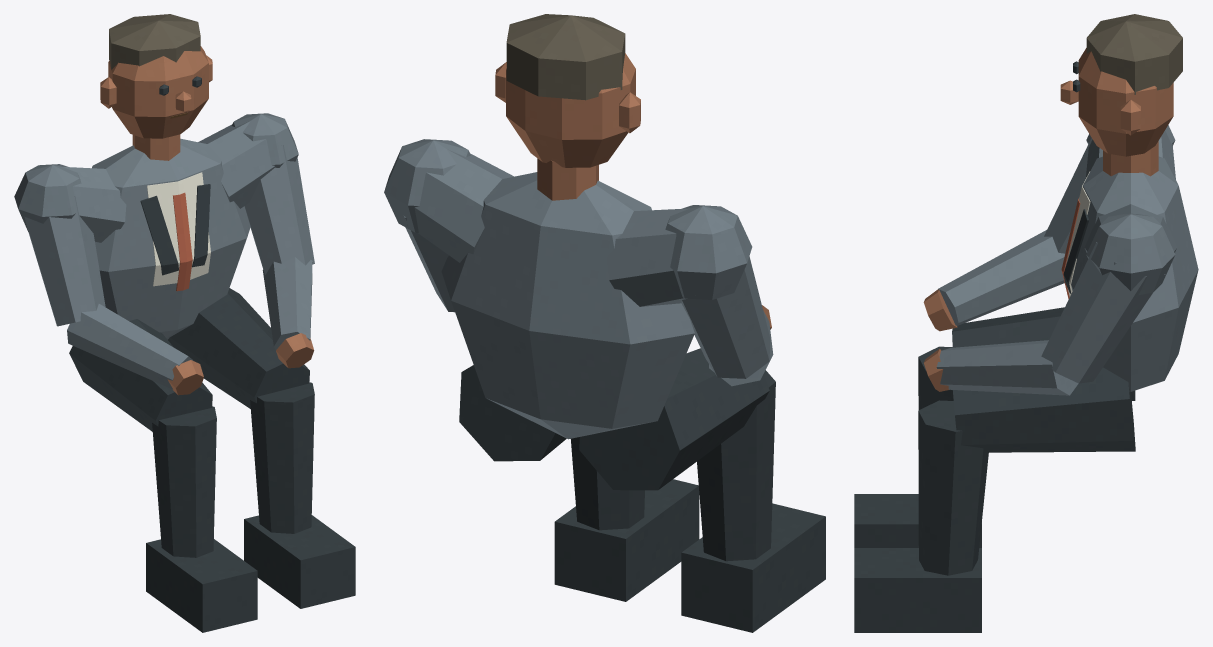
File: character.glb
3 renders of one model, left to right at view 1: azimuth 30°, elevation 25°; view 2: azimuth 150°, elevation 25°; view 3: azimuth 270°, elevation 25°, orthographic. The views are drawn at different scales.
Visible parts, largest first — view 1: Clothed torso 001, Trouser lower leg 013, Trouser lower leg 021, Trouser upper leg 020, Original flat sole shoe 014, Original flat sole shoe 022, Neutral face 004, Clothed upper sleeve 017, Clothed upper sleeve 025, Trouser upper leg 012, Forearm 018, Short faceted hair 005 (+12 smaller); view 2: Clothed torso 001, Trouser upper leg 012, Original flat sole shoe 014, Original flat sole shoe 022, Trouser lower leg 013, Short faceted hair 005, Neutral face 004, Clothed shoulder cap 016, Clothed upper sleeve 017, Clothed shoulder bridge 023, Clothed shoulder bridge 015, Trouser upper leg 020 (+5 smaller); view 3: Clothed torso 001, Trouser upper leg 020, Trouser lower leg 021, Original flat sole shoe 022, Clothed upper sleeve 025, Forearm 018, Neutral face 004, Short faceted hair 005, Forearm 026, Clothed shoulder cap 024, Original flat sole shoe 014, Trouser upper leg 012 (+10 smaller).
Part boxes in pixels (<box>): Clothed torso 001: <box>92,138,250,339</box>; Trouser lower leg 013: <box>152,406,216,557</box>; Trouser lower leg 021: <box>250,382,314,533</box>; Trouser upper leg 020: <box>168,288,309,408</box>; Original flat sole shoe 014: <box>146,539,257,632</box>; Original flat sole shoe 022: <box>244,515,355,608</box>; Neutral face 004: <box>108,46,208,138</box>; Clothed upper sleeve 017: <box>24,196,105,326</box>; Clothed upper sleeve 025: <box>244,142,314,274</box>; Trouser upper leg 012: <box>69,319,212,431</box>; Forearm 018: <box>67,304,193,389</box>; Short faceted hair 005: <box>109,14,200,69</box>; Clothed torso 001: <box>441,172,694,439</box>; Trouser upper leg 012: <box>579,348,769,490</box>; Original flat sole shoe 014: <box>681,503,825,632</box>; Original flat sole shoe 022: <box>554,479,699,601</box>; Trouser lower leg 013: <box>697,370,775,561</box>; Short faceted hair 005: <box>506,14,625,100</box>; Neutral face 004: <box>506,53,635,167</box>; Clothed shoulder cap 016: <box>665,205,752,299</box>; Clothed upper sleeve 017: <box>681,256,770,378</box>; Clothed shoulder bridge 023: <box>407,149,513,262</box>; Clothed shoulder bridge 015: <box>607,208,695,306</box>; Trouser upper leg 020: <box>459,365,566,461</box>; Clothed torso 001: <box>1071,156,1198,391</box>; Trouser upper leg 020: <box>952,367,1135,452</box>; Trouser lower leg 021: <box>918,400,988,575</box>; Original flat sole shoe 022: <box>854,548,981,632</box>; Clothed upper sleeve 025: <box>1041,242,1165,383</box>; Forearm 018: <box>938,230,1064,325</box>; Neutral face 004: <box>1078,48,1173,156</box>; Short faceted hair 005: <box>1086,14,1182,94</box>; Forearm 026: <box>936,340,1078,395</box>; Clothed shoulder cap 024: <box>1086,213,1175,294</box>; Original flat sole shoe 014: <box>854,494,981,547</box>; Trouser upper leg 012: <box>952,307,1135,400</box>.
Size of the model in its own units: 0.8136 by 1.42 by 0.7776.
7 materials, 7 textured.
